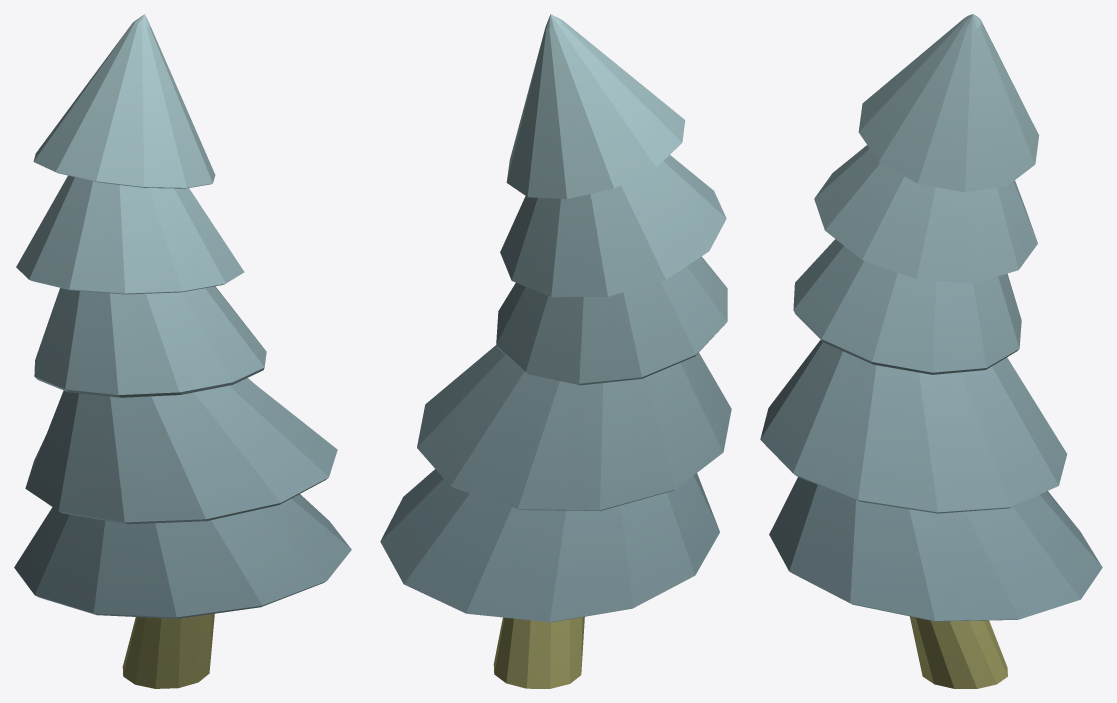
Rendered from SM_FrozenTree2.fbx.
3 renders of one model, left to right at view 1: azimuth 30°, elevation 25°; view 2: azimuth 150°, elevation 25°; view 3: azimuth 270°, elevation 25°, orthographic. The views are drawn at different scales.
Visible parts, largest first — view 1: SM_FrozenTree2; view 2: SM_FrozenTree2; view 3: SM_FrozenTree2.
Boxes of the visible parts, left/top/right/bottom form: SM_FrozenTree2: left=14, top=14, right=351, bottom=688; SM_FrozenTree2: left=380, top=14, right=731, bottom=688; SM_FrozenTree2: left=760, top=14, right=1102, bottom=688.
Bounding box in the file's own units: 390 × 812 × 387.
